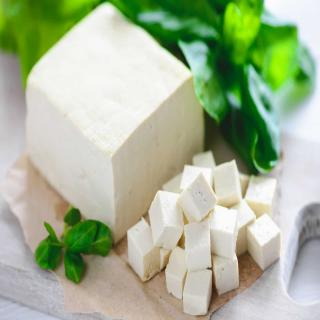Tahu: (15, 3, 210, 252), (122, 125, 286, 317)
